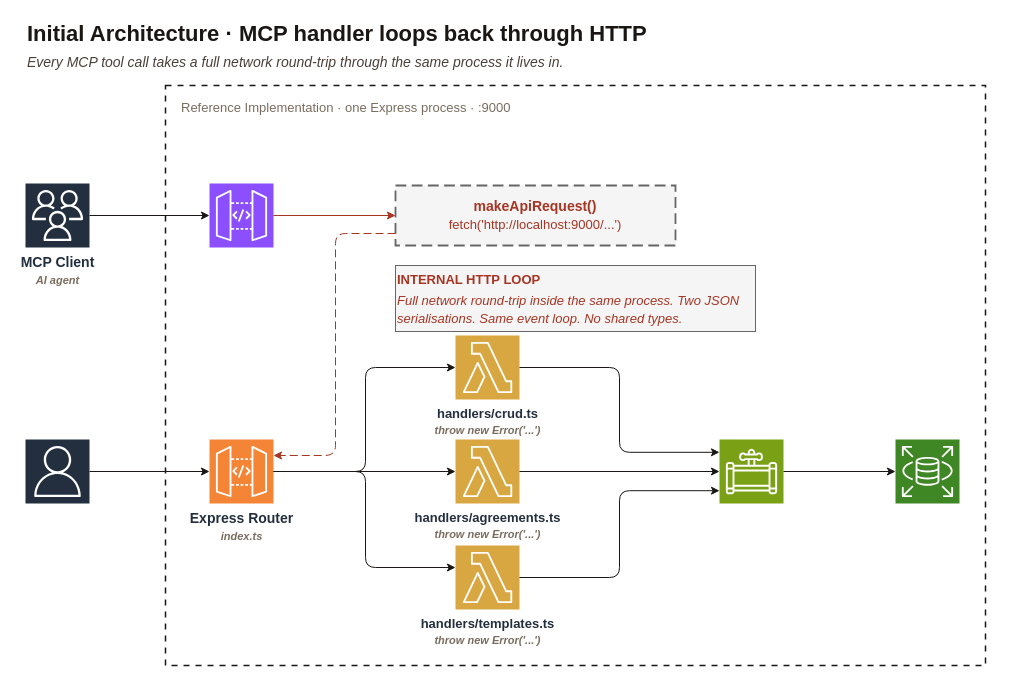
The diagram is 1022 pixels wide and 683 high, and some of its shapes have lost their labels. The centre of each missing label's shape, as x and y in pixels:
"Drizzle ORM schema.ts" goes at [751,471].
"MCP Handler mcp.ts" goes at [241,215].
"PostgreSQL 2 tables" goes at [927,471].
"REST Client curl / SDK" goes at [57,471].
